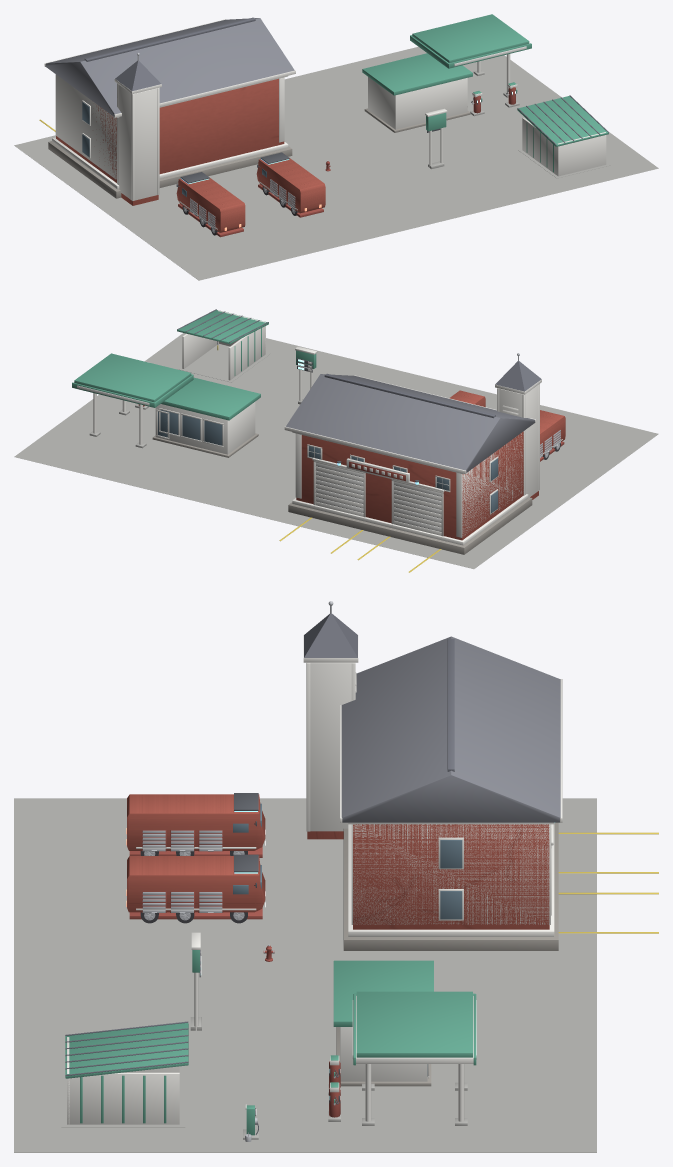
The model's file is th43_wachhof.glb.
The picture shows the model from 3 angles, top to bottom: view 1: azimuth 30°, elevation 25°; view 2: azimuth 150°, elevation 25°; view 3: azimuth 270°, elevation 25°; orthographic projection. The views are drawn at different scales.
Visible parts, largest first — view 1: Cube, Satteldach, Cube.003, Cube.004, Cube.379, Cube.408, Cube.095, Cube.381, Cube.468, Aufbau, Aufbau.001, Cube.094 (+7 smaller); view 2: Cube, Satteldach, Cube.003, Cube.408, Cube.004, Cube.001, Cube.381, Cube.379, Cube.468, Cube.094, Cube.002, Cube.454 (+11 smaller); view 3: Cube, Satteldach, Cube.003, Cube.005, Cube.408, Cube.096, Aufbau, Aufbau.001, Cube.461, Cube.468, Cube.001, Cube.381 (+7 smaller).
Part boxes in pixels (x1=…): Cube: x1=14, y1=46, x2=658, y2=280; Satteldach: x1=45, y1=18, x2=294, y2=116; Cube.003: x1=56, y1=78, x2=284, y2=182; Cube.004: x1=55, y1=74, x2=116, y2=179; Cube.379: x1=368, y1=77, x2=467, y2=129; Cube.408: x1=412, y1=14, x2=529, y2=62; Cube.095: x1=131, y1=88, x2=157, y2=200; Cube.381: x1=362, y1=53, x2=472, y2=95; Cube.468: x1=517, y1=96, x2=608, y2=146; Aufbau: x1=256, y1=158, x2=325, y2=213; Aufbau.001: x1=176, y1=178, x2=245, y2=232; Cube.094: x1=118, y1=84, x2=134, y2=200; Cube: x1=14, y1=333, x2=658, y2=568; Satteldach: x1=286, y1=374, x2=534, y2=472; Cube.003: x1=296, y1=431, x2=523, y2=540; Cube.408: x1=74, y1=353, x2=191, y2=402; Cube.004: x1=456, y1=433, x2=523, y2=537; Cube.001: x1=288, y1=497, x2=532, y2=554; Cube.381: x1=161, y1=377, x2=260, y2=420; Cube.379: x1=155, y1=402, x2=255, y2=454; Cube.468: x1=177, y1=310, x2=268, y2=344; Cube.094: x1=522, y1=385, x2=538, y2=497; Cube.002: x1=292, y1=494, x2=528, y2=545; Cube.454: x1=177, y1=344, x2=270, y2=382; Cube: x1=14, y1=798, x2=596, y2=1152; Satteldach: x1=341, y1=636, x2=560, y2=822; Cube.003: x1=353, y1=824, x2=549, y2=929; Cube.005: x1=351, y1=824, x2=550, y2=924; Cube.408: x1=356, y1=991, x2=472, y2=1057; Cube.096: x1=306, y1=662, x2=354, y2=831; Aufbau: x1=127, y1=856, x2=265, y2=912; Aufbau.001: x1=127, y1=794, x2=265, y2=850; Cube.461: x1=67, y1=1072, x2=179, y2=1124; Cube.468: x1=65, y1=1023, x2=188, y2=1078; Cube.001: x1=343, y1=822, x2=558, y2=950; Cube.381: x1=333, y1=960, x2=433, y2=1026.
Size of the model in its own units: 46 by 13.81 by 35.4.
Materials: 83 (3 with a texture image).
